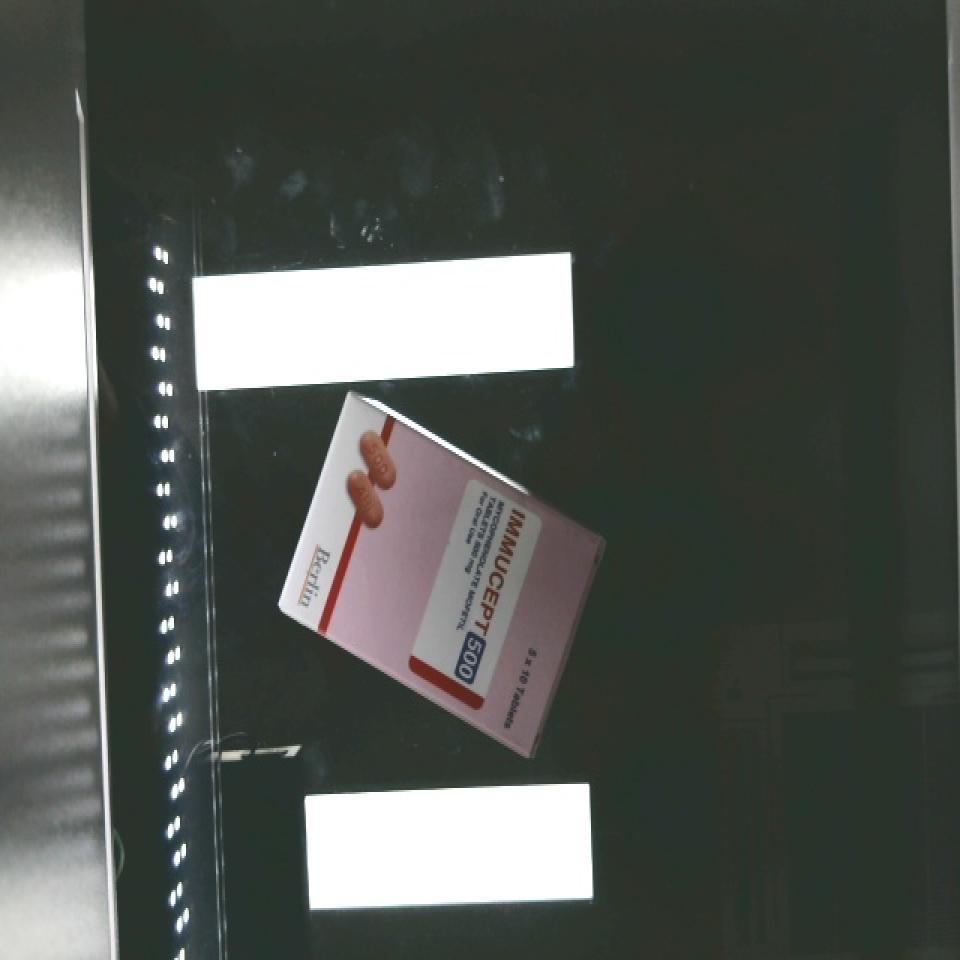medicine_box: (238, 392, 642, 756)
medicine_label_obb: (433, 489, 542, 708)
